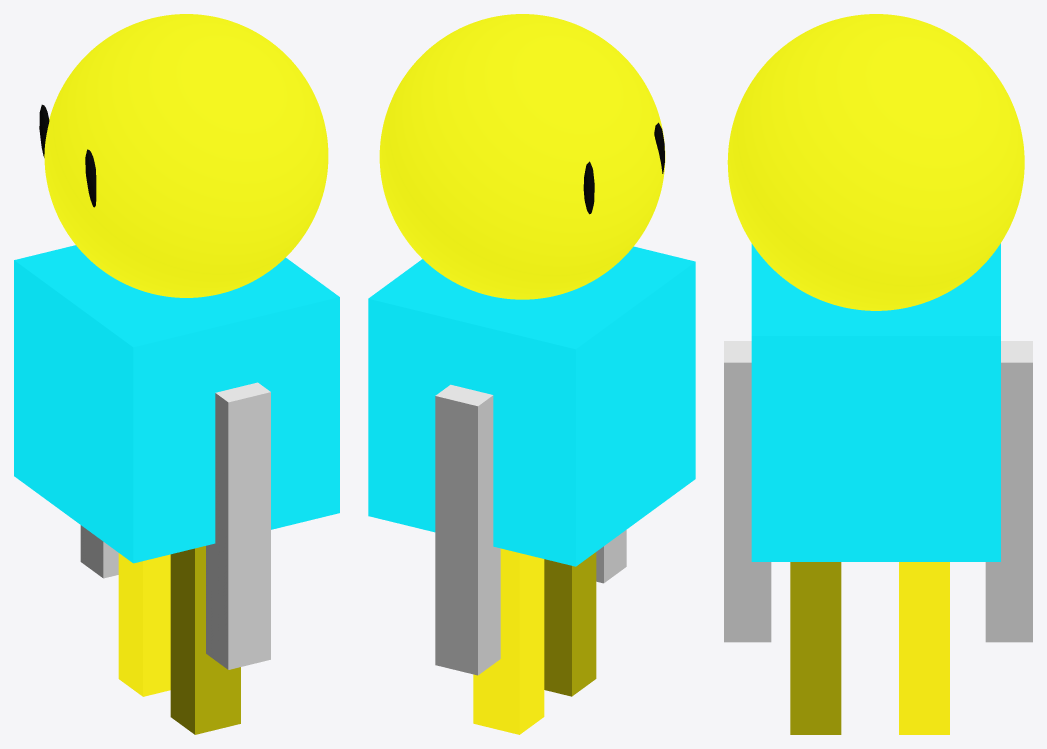
Rendered from Pixel Place Default - Idle.glb.
The picture shows the model from 3 angles, left to right: view 1: azimuth 30°, elevation 25°; view 2: azimuth 150°, elevation 25°; view 3: azimuth 270°, elevation 25°; orthographic projection. The views are drawn at different scales.
Parts seen in each view (by area): view 1: Cube, Sphere, Cube.003, Cube.001, Cube.002, Cube.004; view 2: Cube, Sphere, Cube.004, Cube.002, Cube.001, Cube.003; view 3: Sphere, Cube, Cube.004, Cube.003, Cube.001, Cube.002.
Boxes of the visible parts, x1,y1,x2,y2 form: Cube: (14, 245, 339, 563); Sphere: (44, 14, 328, 297); Cube.003: (206, 382, 270, 669); Cube.001: (170, 546, 240, 734); Cube.002: (118, 553, 170, 696); Cube.004: (80, 525, 118, 578); Cube: (368, 246, 695, 566); Sphere: (379, 14, 665, 299); Cube.004: (435, 384, 500, 675); Cube.002: (473, 548, 544, 734); Cube.001: (544, 552, 596, 696); Cube.003: (596, 530, 626, 583); Sphere: (727, 14, 1024, 310); Cube: (751, 243, 1000, 561); Cube.004: (985, 341, 1032, 642); Cube.003: (724, 341, 771, 642); Cube.001: (790, 562, 841, 734); Cube.002: (899, 562, 949, 734).
Size of the model in its own units: 1.16 by 3.02 by 1.21.
